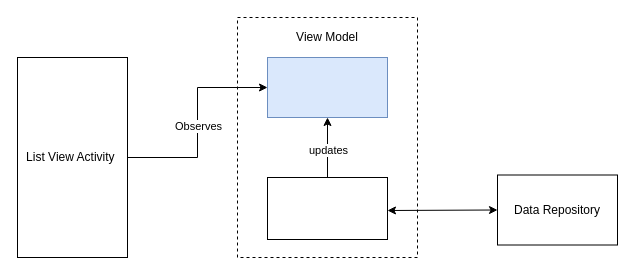
Image size: 635x275. Some labels were removed from this diagram. The shapes that lost their labels are listed below. From the top down, each one's box as (x1, y1, x2, y2) in pixels, then its label:
(266, 56, 388, 118): LiveData
(266, 176, 388, 240): fun fetchData()
